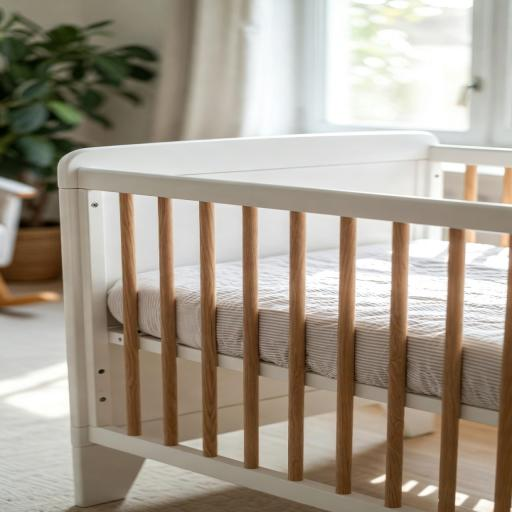crib: (59, 130, 512, 502)
